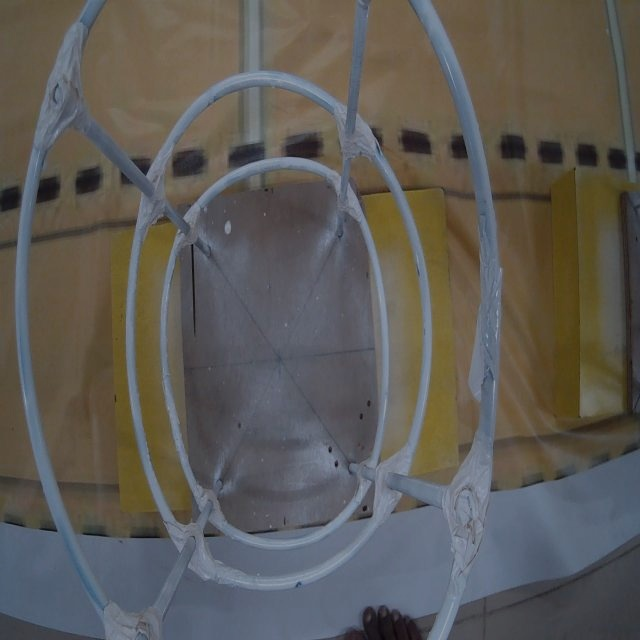silo: (10, 0, 533, 640)
